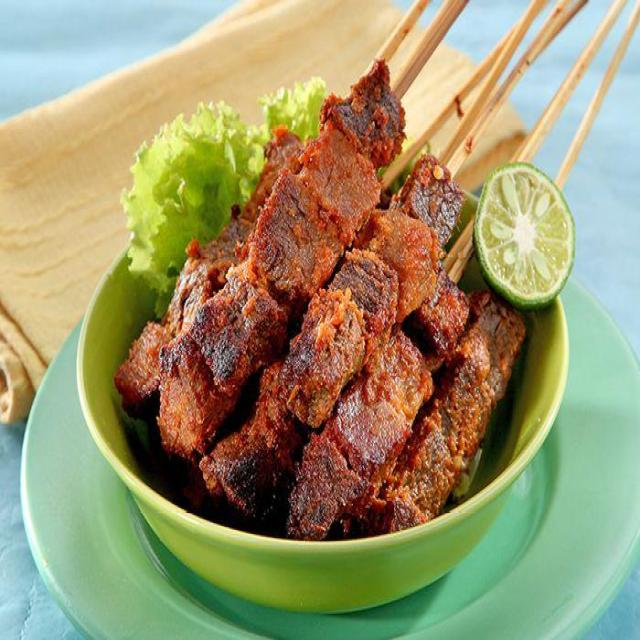Sate: (166, 0, 605, 551)
